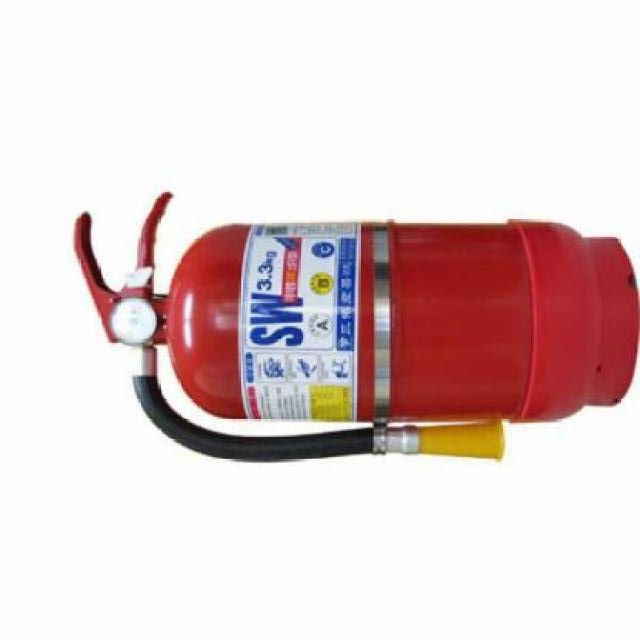fire extinguisher: (72, 191, 640, 463)
